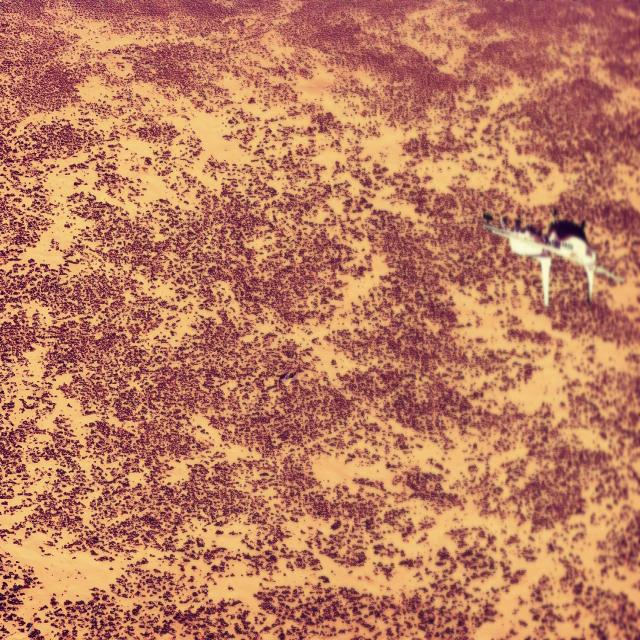airplane: (482, 214, 624, 307)
